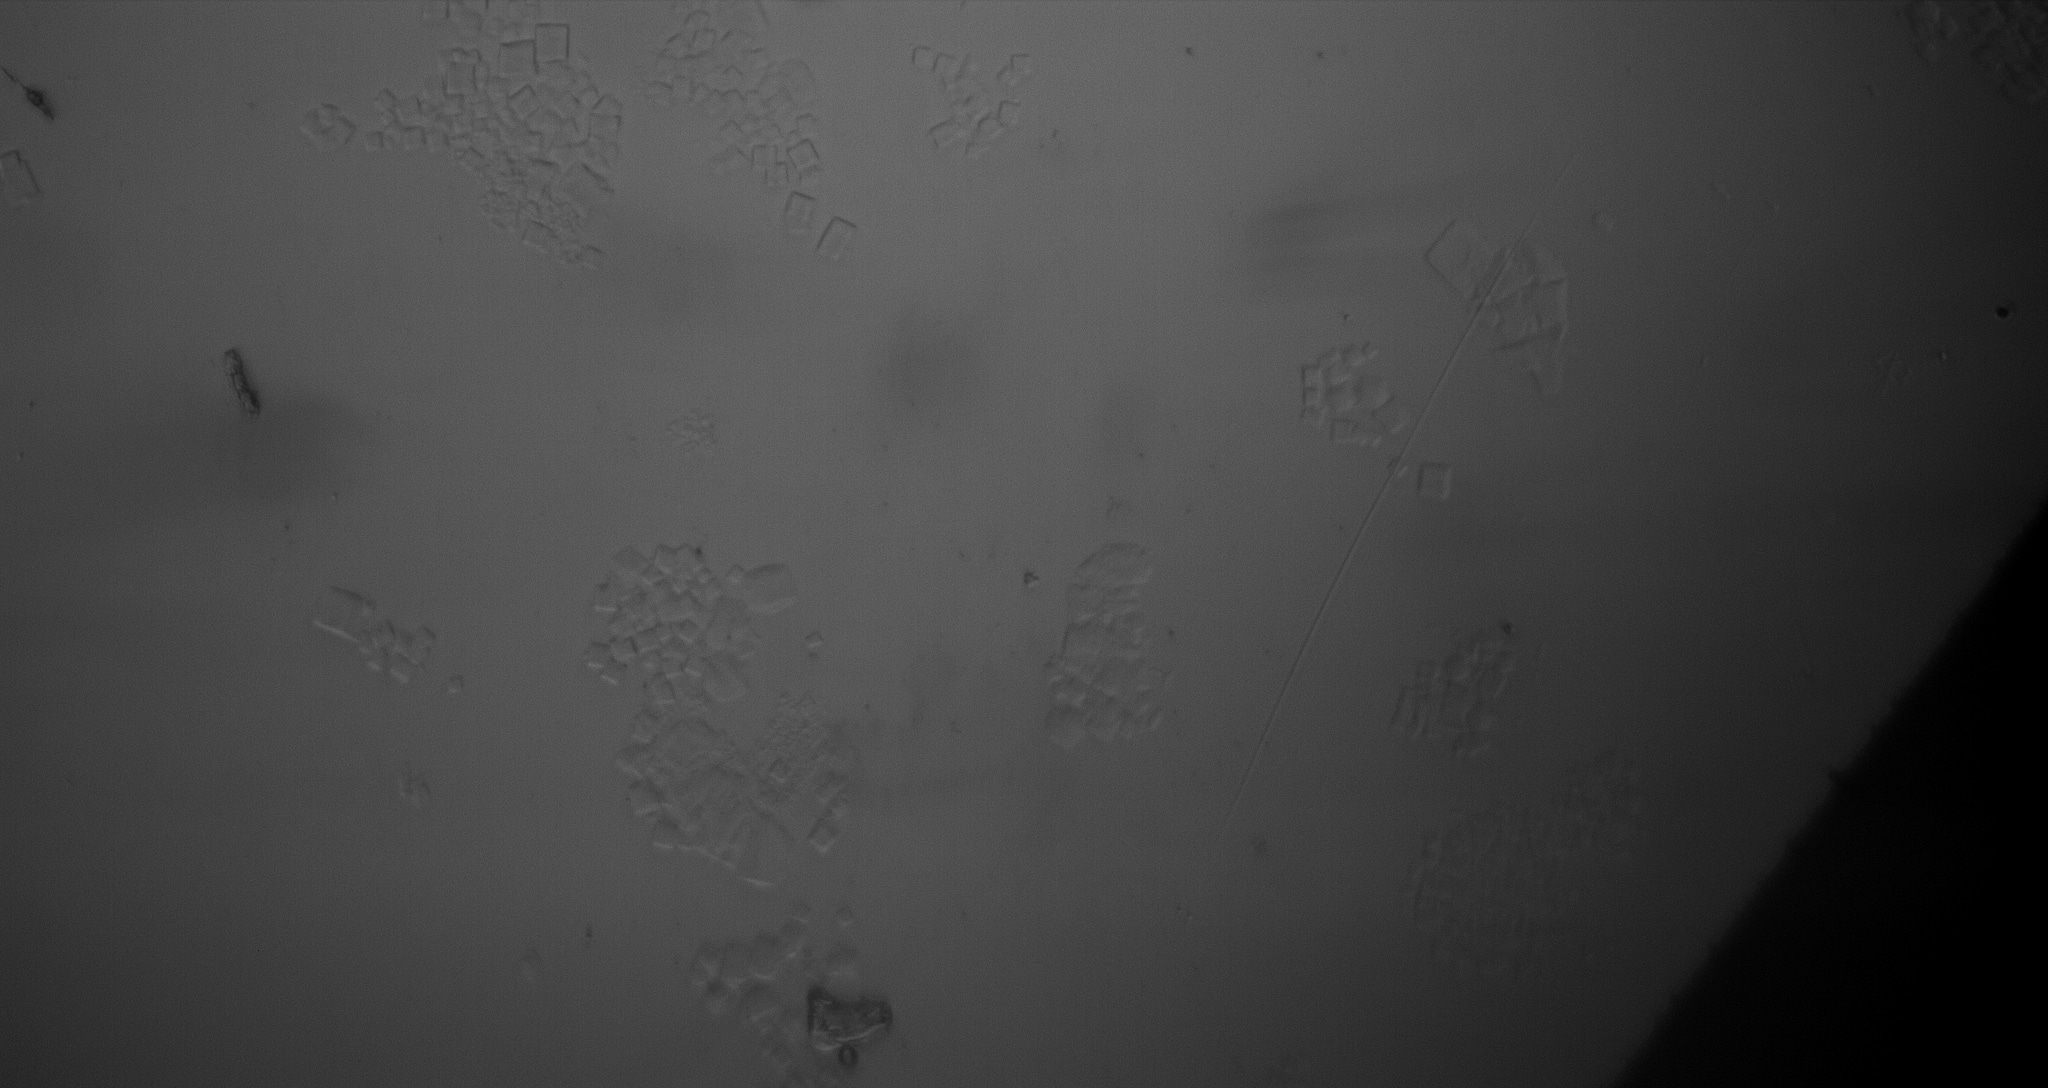square: (1424, 218, 1495, 298), (742, 564, 801, 615), (310, 585, 368, 637), (1415, 458, 1459, 507), (818, 215, 861, 260), (624, 780, 662, 821), (782, 188, 815, 233), (536, 24, 569, 65), (926, 121, 962, 146), (520, 222, 550, 251), (585, 642, 612, 671), (912, 47, 932, 70), (442, 675, 465, 694), (1013, 56, 1033, 76)
